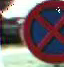No Stopping: (21, 0, 63, 64)
